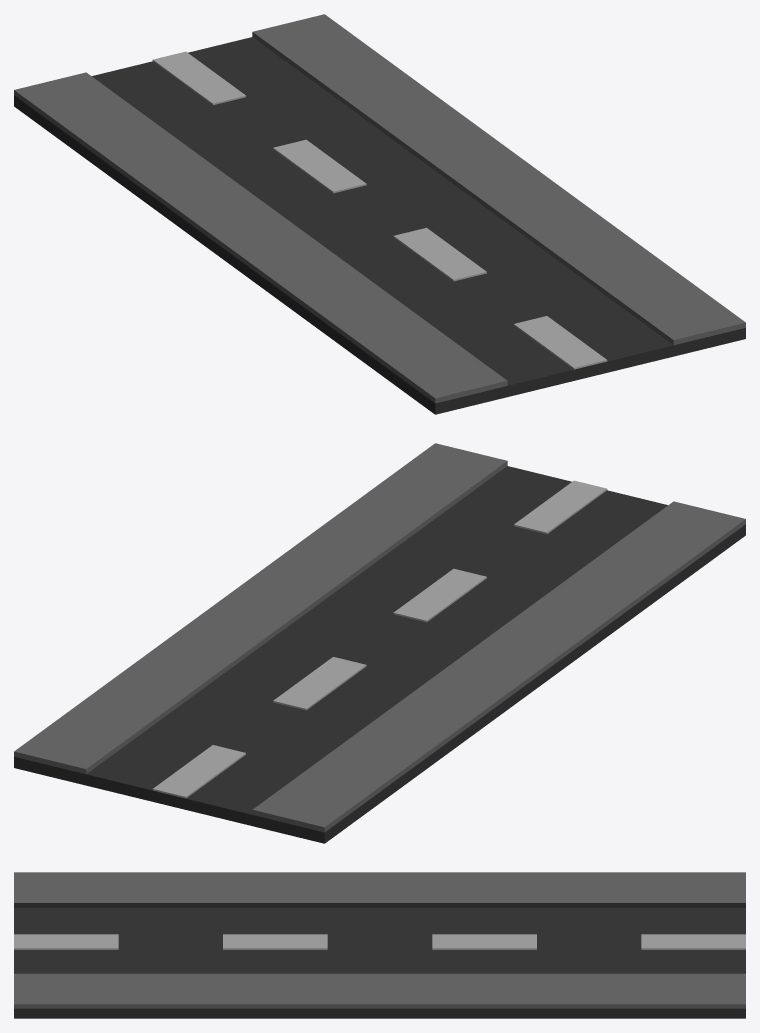
Rendered from road.fbx.
3 views of the same model, one above another, from view 1: azimuth 30°, elevation 25°; view 2: azimuth 150°, elevation 25°; view 3: azimuth 270°, elevation 25° (orthographic). The views are drawn at different scales.
Parts seen in each view (by area): view 1: Simple Road; view 2: Simple Road; view 3: Simple Road.
Boxes of the visible parts, x1,y1,x2,y2 form: Simple Road: (14,14,745,414); Simple Road: (14,443,745,843); Simple Road: (14,872,745,1018).
Size of the model in its own units: 1888 by 95.52 by 4435.
